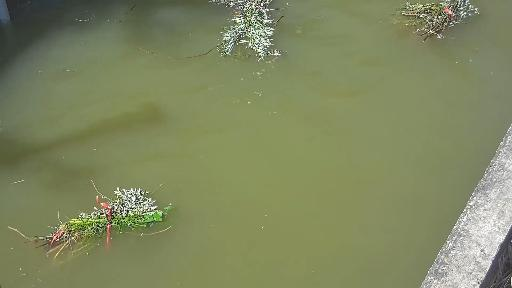twig: (18, 170, 184, 253), (171, 0, 309, 72), (390, 0, 479, 47)
